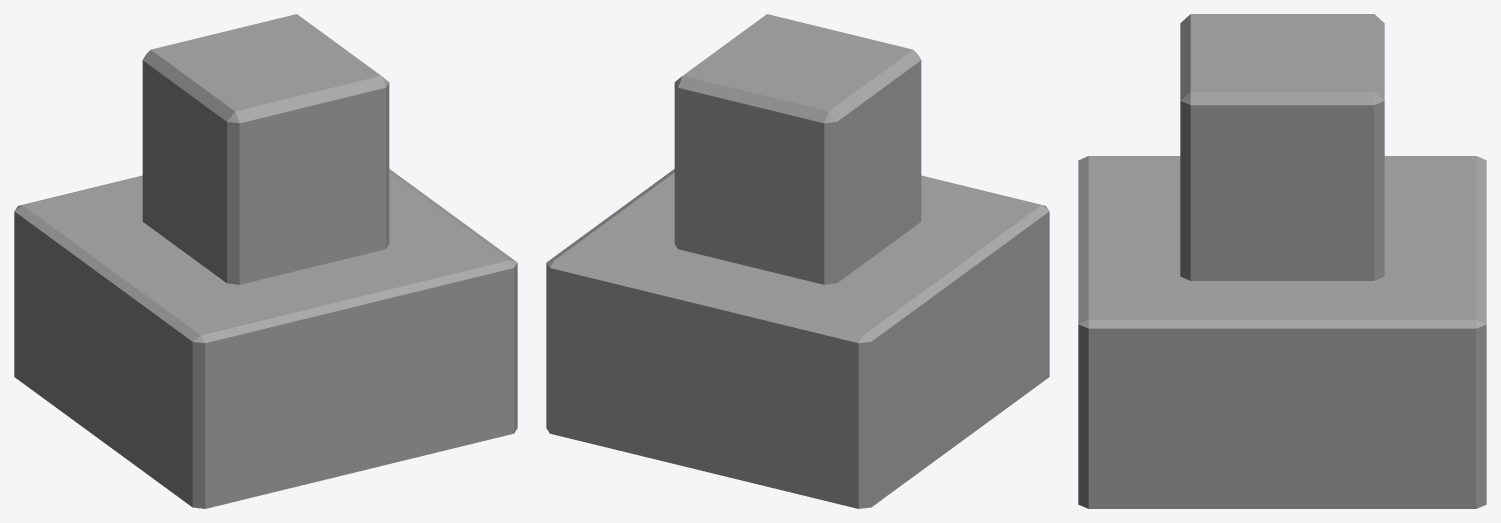
Rendered from Character_Landmark_Skin0.fbx.
3 renders of one model, left to right at view 1: azimuth 30°, elevation 25°; view 2: azimuth 150°, elevation 25°; view 3: azimuth 270°, elevation 25°, orthographic. The views are drawn at different scales.
Visible parts, largest first — view 1: Character_Landmark_Skin0; view 2: Character_Landmark_Skin0; view 3: Character_Landmark_Skin0.
Part boxes in pixels (x1,y1,x2,y2): Character_Landmark_Skin0: (14,14,517,508); Character_Landmark_Skin0: (546,14,1049,508); Character_Landmark_Skin0: (1078,14,1486,508).
Size of the model in its own units: 200 by 200 by 200.
